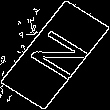N_SE: (19, 24, 91, 86)
